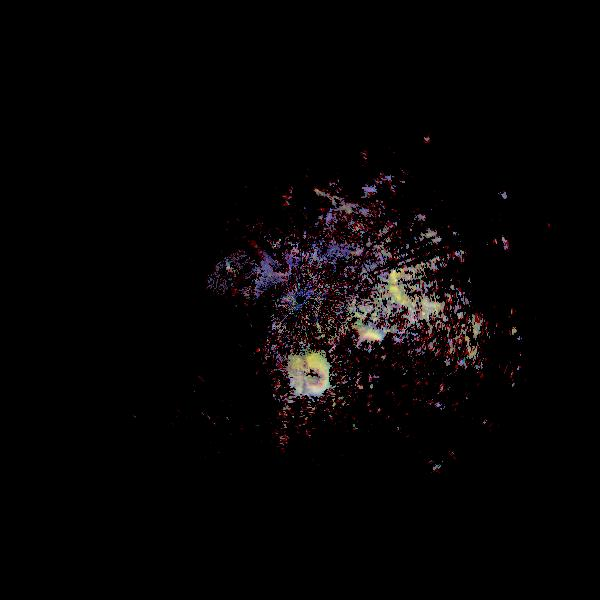roost: (277, 345, 337, 405), (381, 259, 432, 310), (430, 443, 478, 491), (347, 326, 383, 362)
